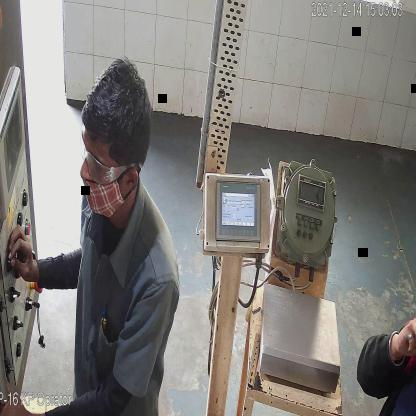goggles: (79, 134, 137, 184)
